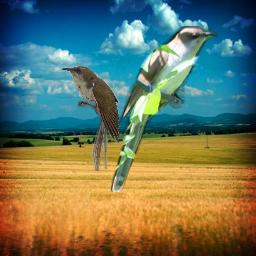Cuckoo: (111, 26, 219, 192), (61, 65, 119, 171)
